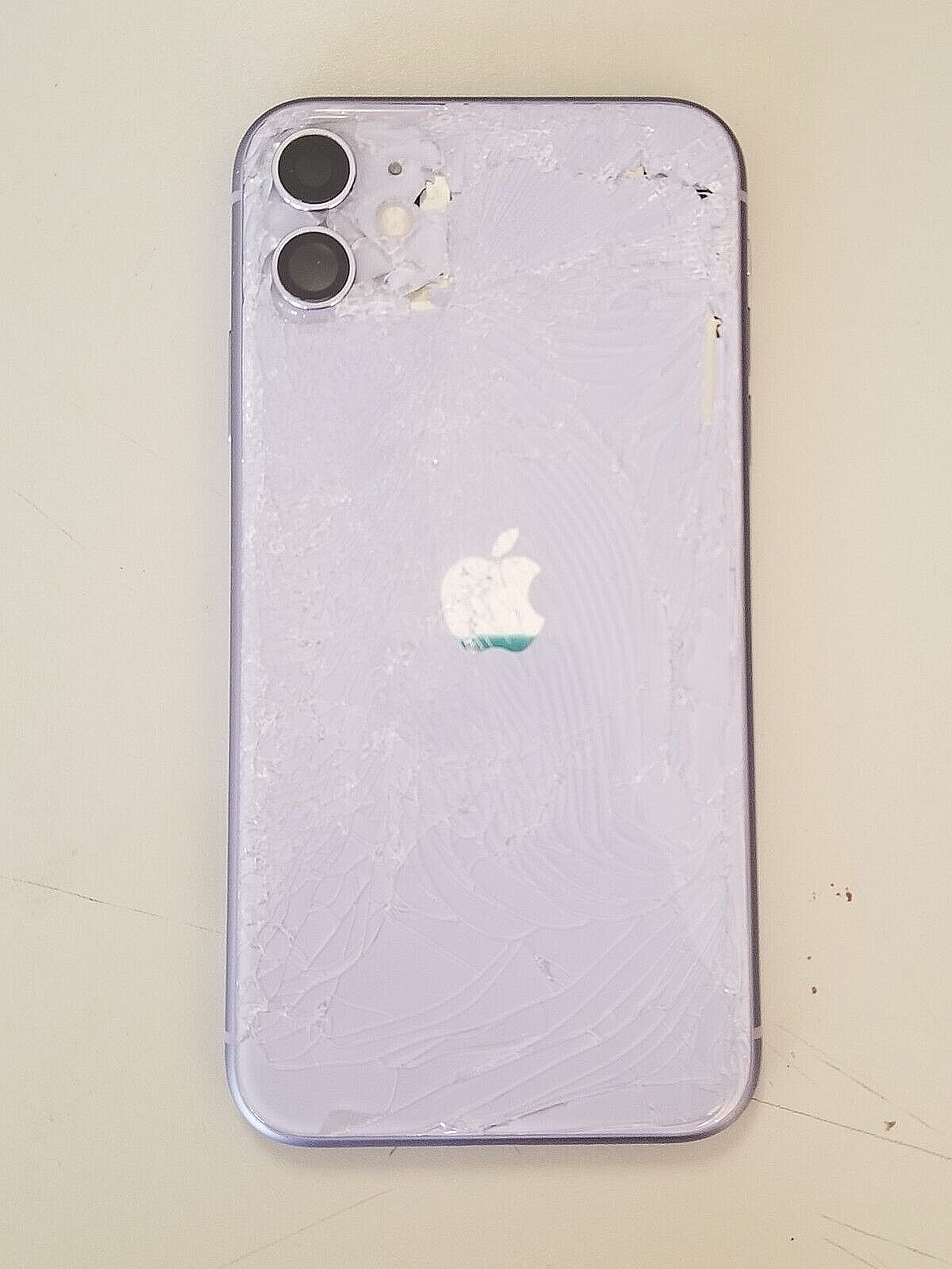crack_phone: (194, 68, 814, 1210)
